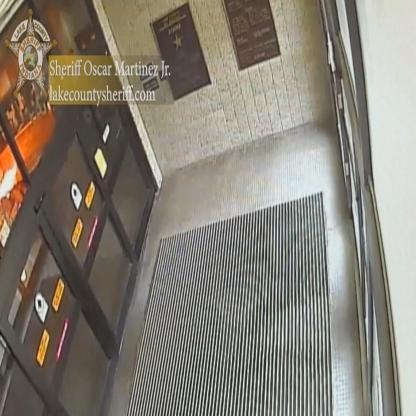fire: (0, 162, 17, 200)
